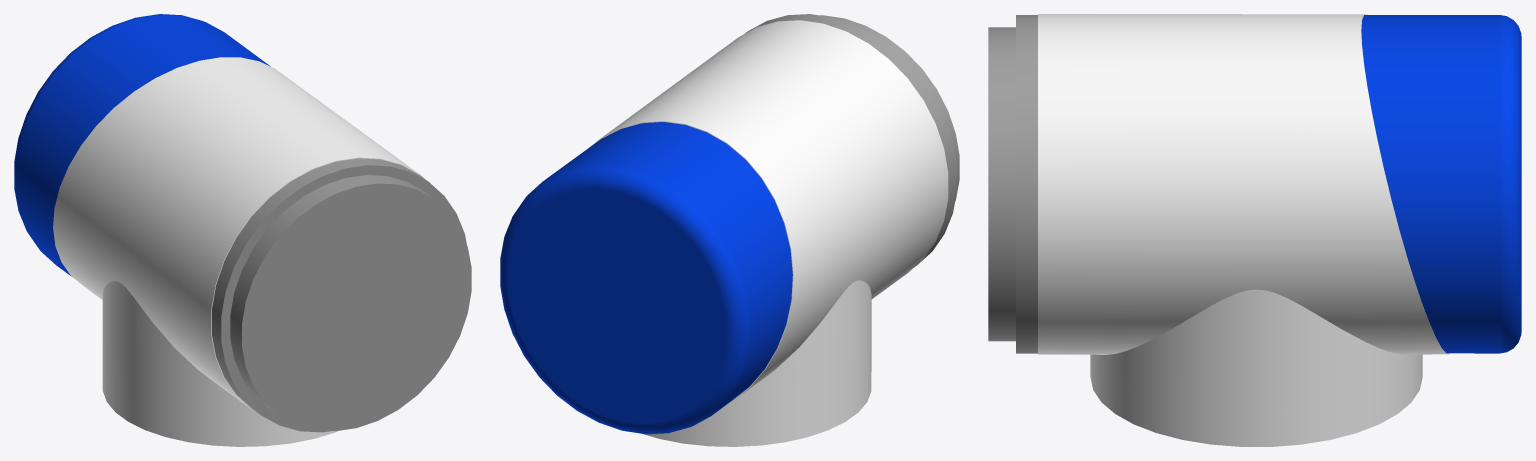
3 views of the same model, side by side, from view 1: azimuth 30°, elevation 25°; view 2: azimuth 150°, elevation 25°; view 3: azimuth 270°, elevation 25° (orthographic). The views are drawn at different scales.
Visible parts, largest first — view 1: NONE; view 2: NONE; view 3: NONE.
Part boxes in pixels (x1,y1,x2,y2): NONE: (14, 14, 471, 446); NONE: (500, 14, 959, 446); NONE: (988, 14, 1521, 446).
Bounding box in the file's own units: 0.077 × 0.1203 × 0.0865.
